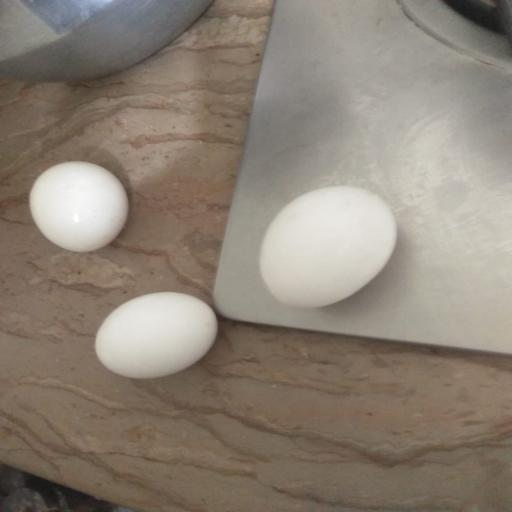telur: (260, 186, 397, 308), (95, 292, 218, 378), (30, 162, 128, 252)
